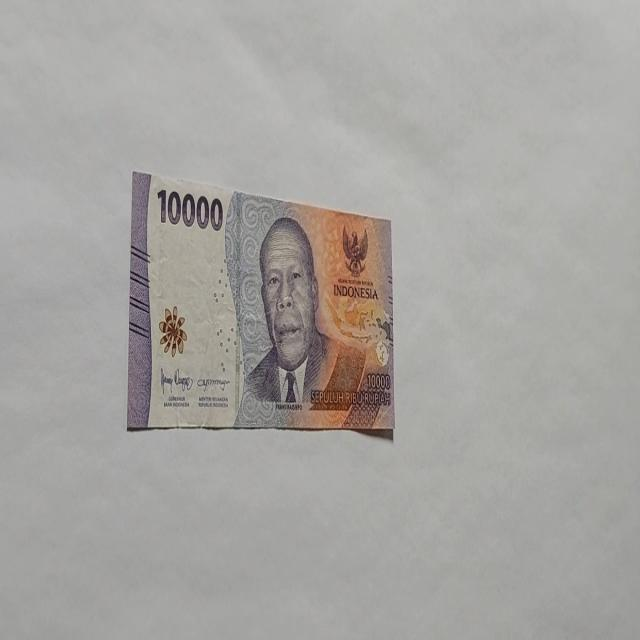sepuluh ribu rupiah: (126, 168, 395, 434), (232, 214, 368, 428)
